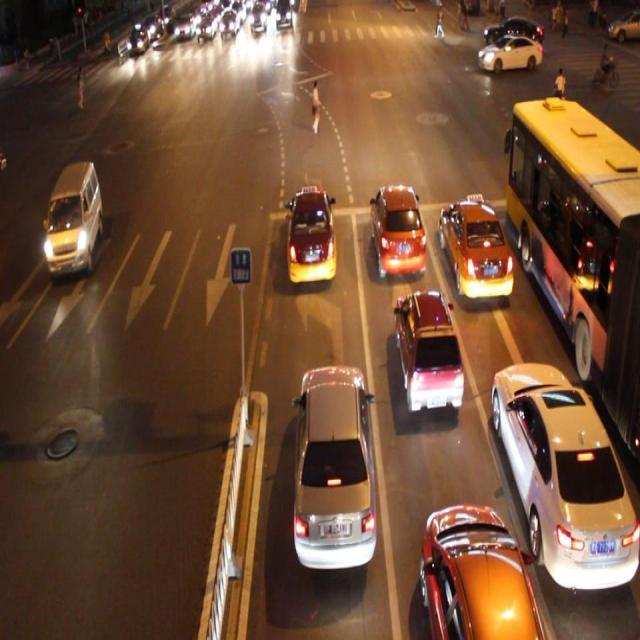car: (491, 359, 640, 595), (293, 362, 377, 572), (420, 499, 542, 640), (393, 288, 462, 415), (439, 199, 512, 299), (44, 162, 101, 280), (368, 180, 426, 276), (284, 185, 336, 284), (476, 36, 541, 74)
van: (502, 97, 640, 448)
